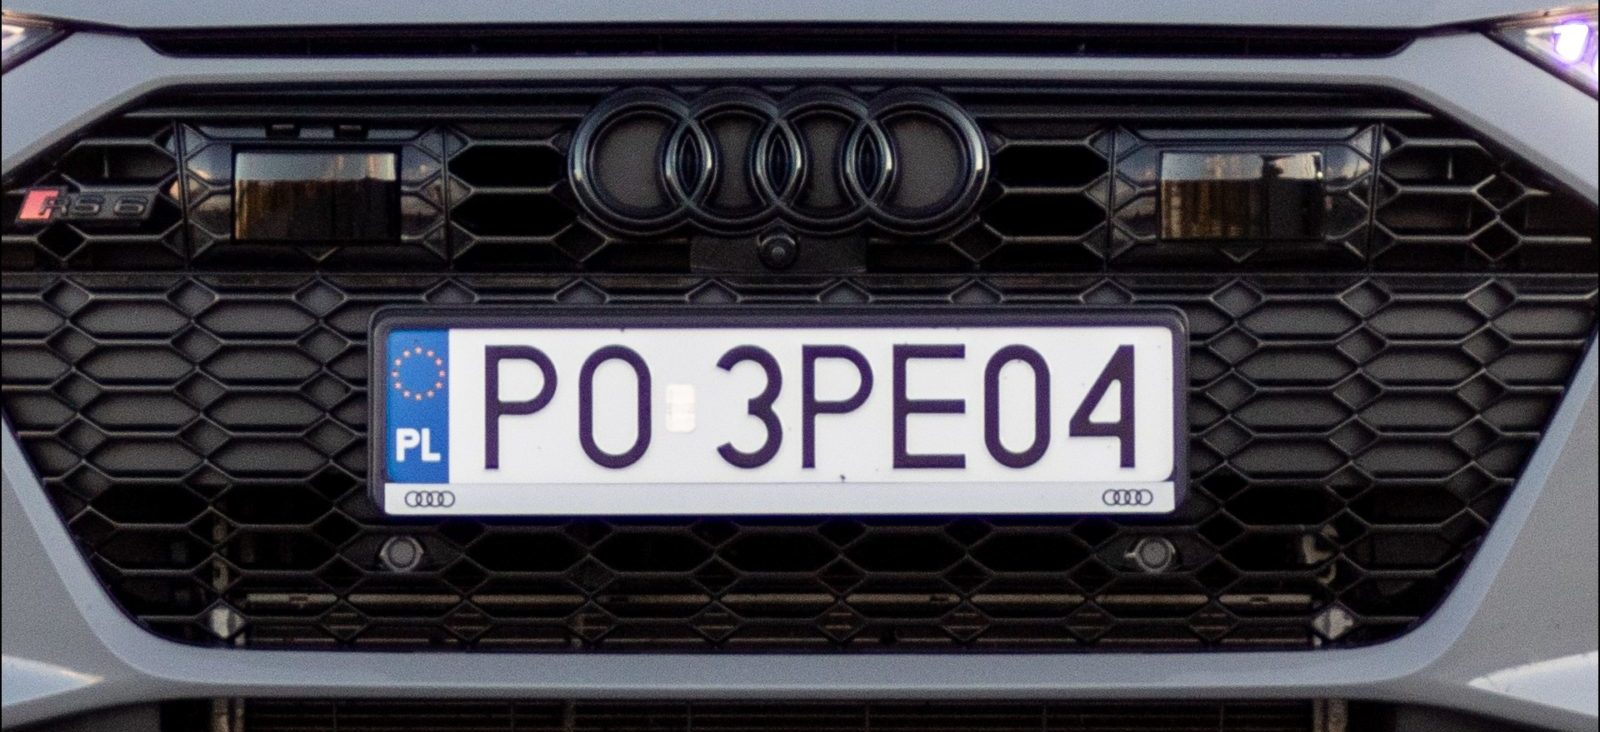number_plate: (380, 317, 1183, 507)
